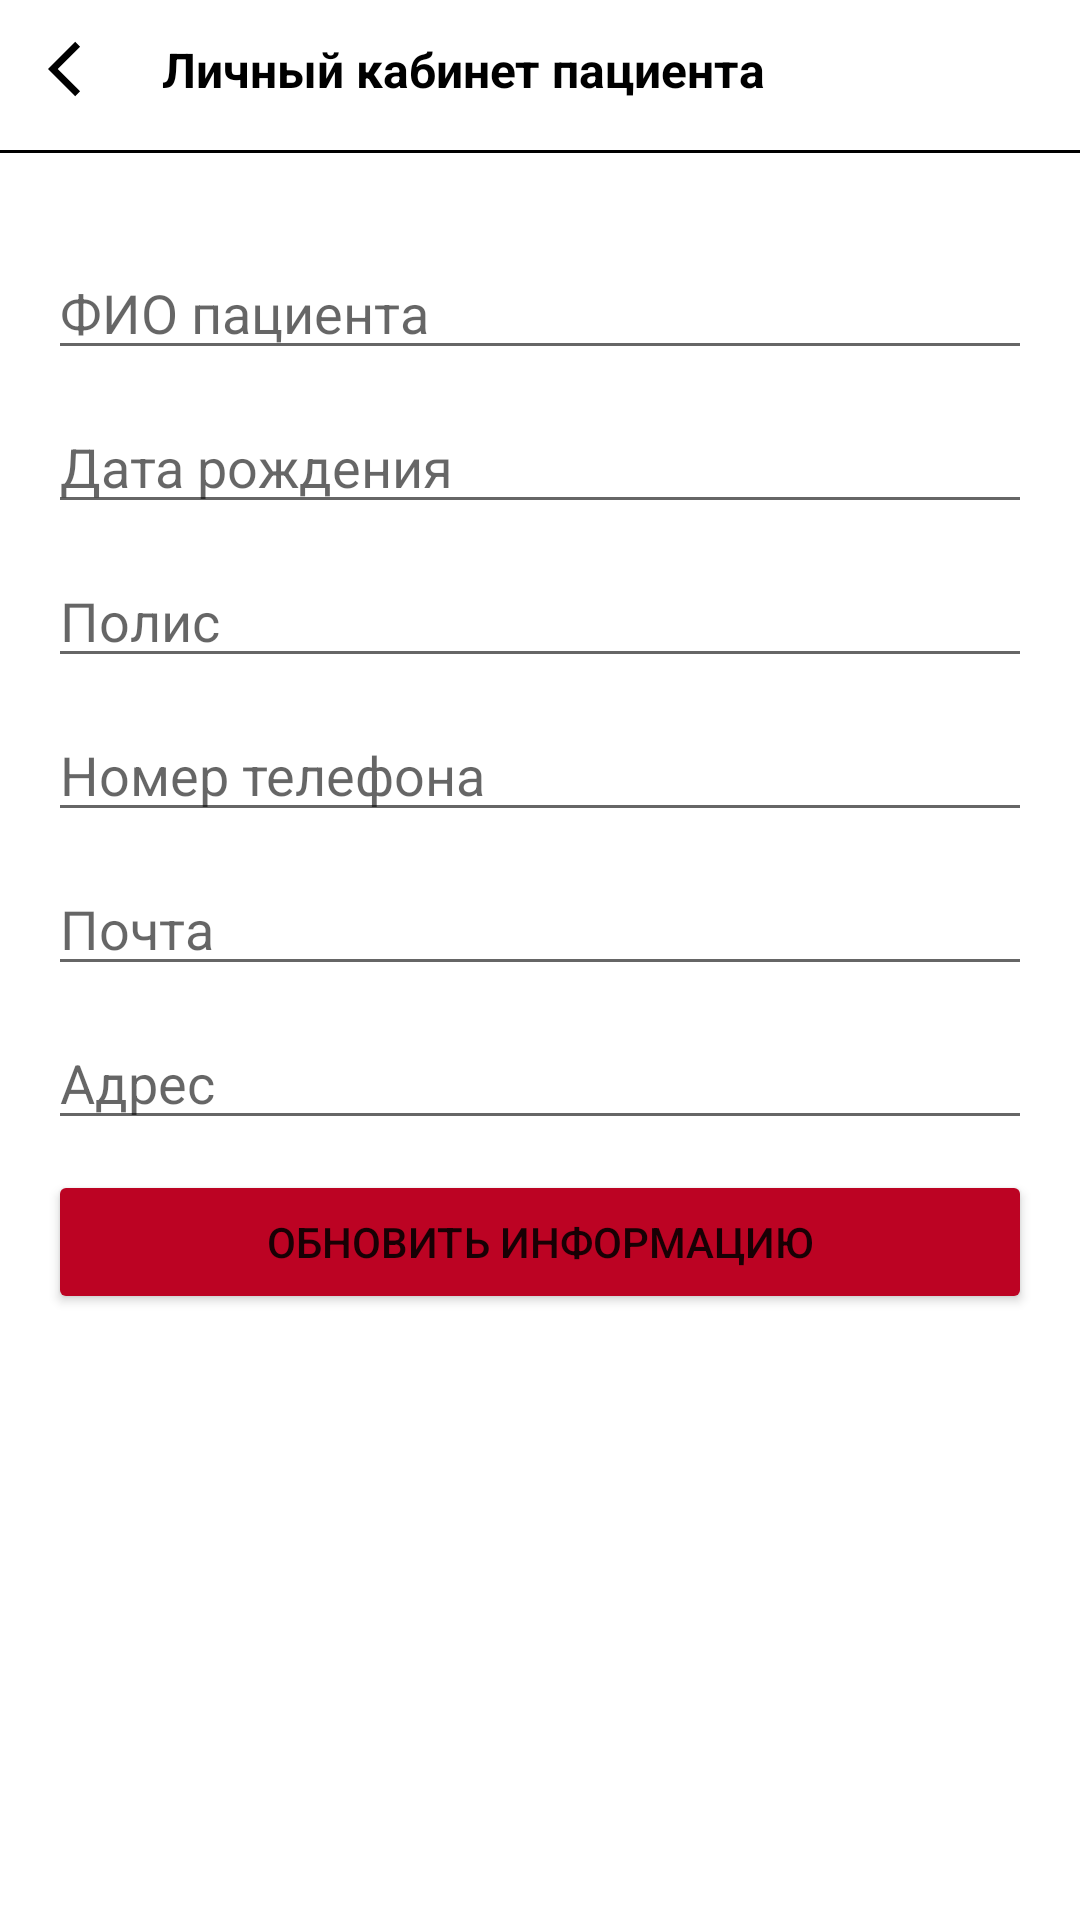

Screen size 1080 × 1920. Icon name, then its center in pixels as [x,y]:
back arrow: [64,69]
